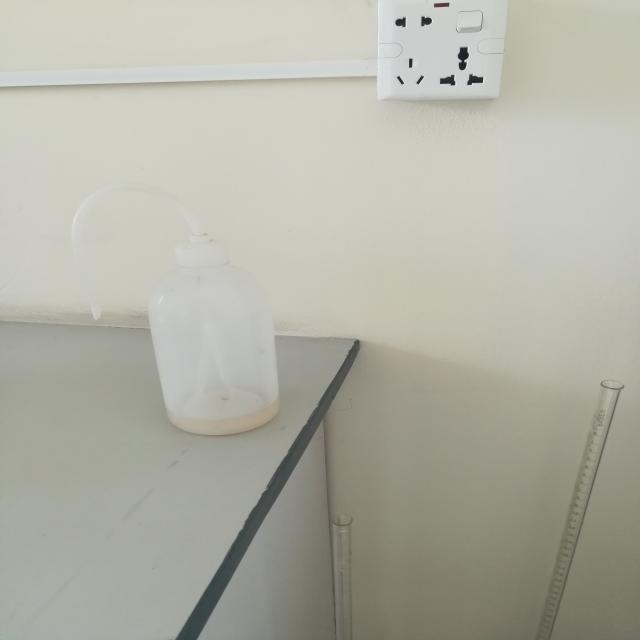Wash_Bottle: (41, 164, 316, 458)
